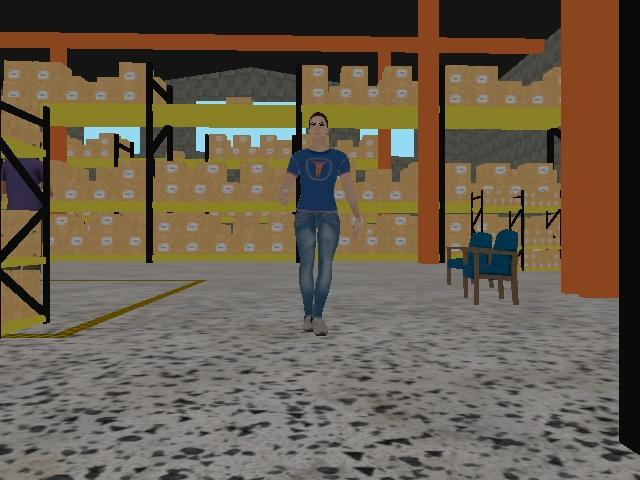chair: (460, 228, 521, 306), (443, 228, 495, 288)
person: (276, 111, 365, 339)
